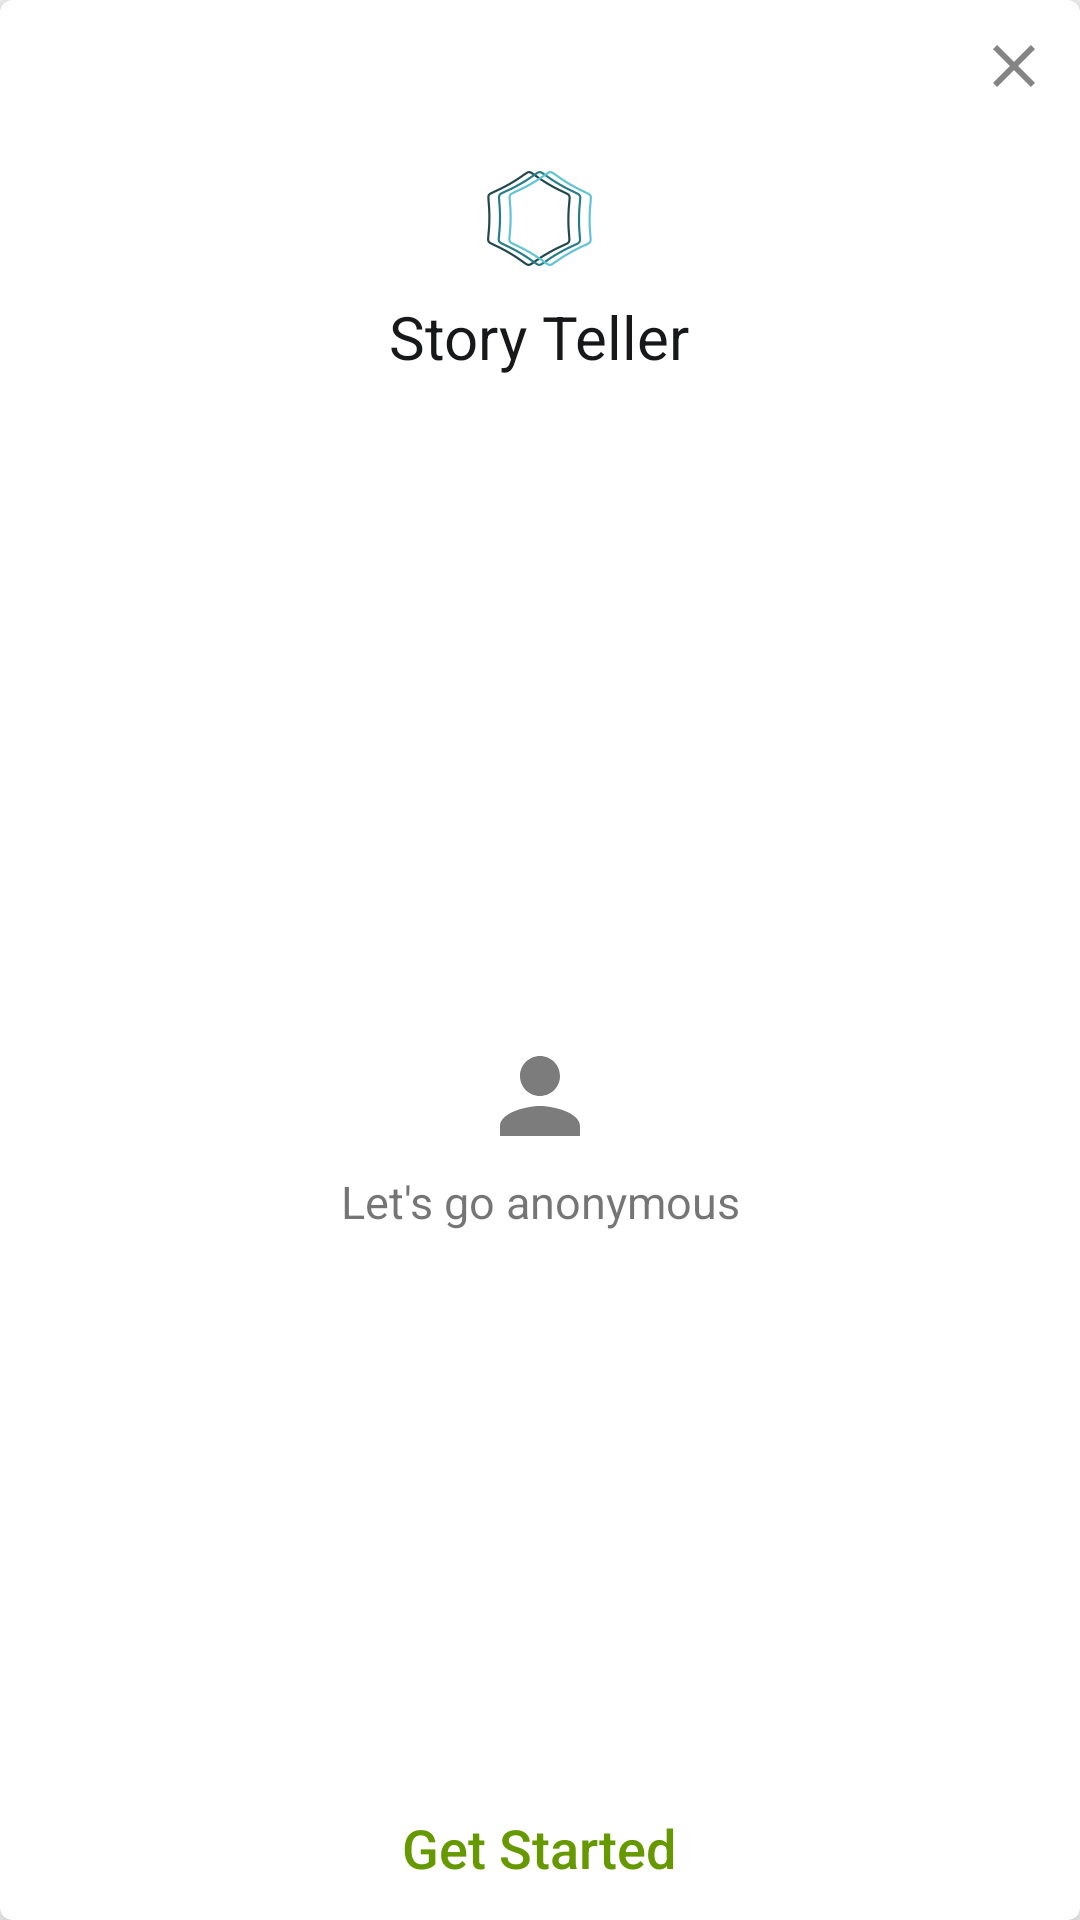

Icon bounding boxes for this 1080w x 1920h phone screenshot, format (x1, y1, x2, y2):
person: (500, 1056, 580, 1136)
